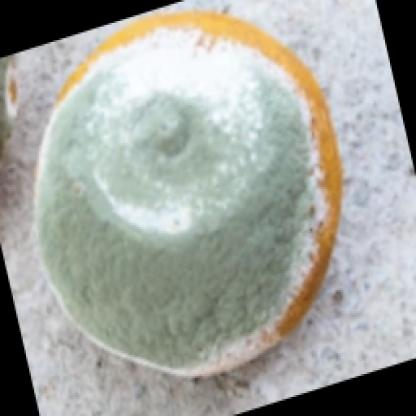rotten: (37, 12, 342, 380)
